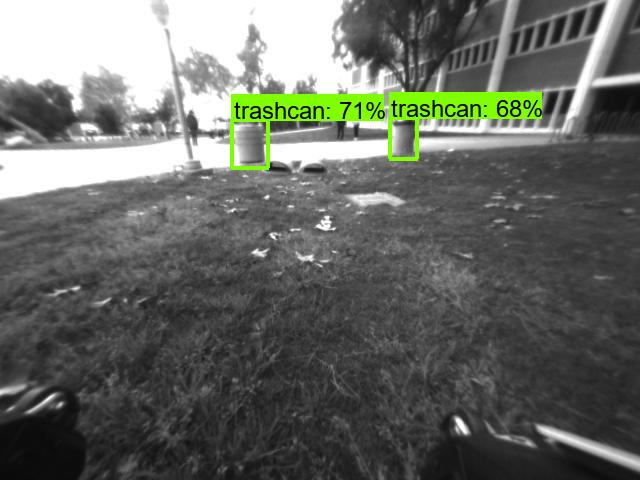trashcan: (231, 126, 273, 176), (392, 121, 416, 160)
